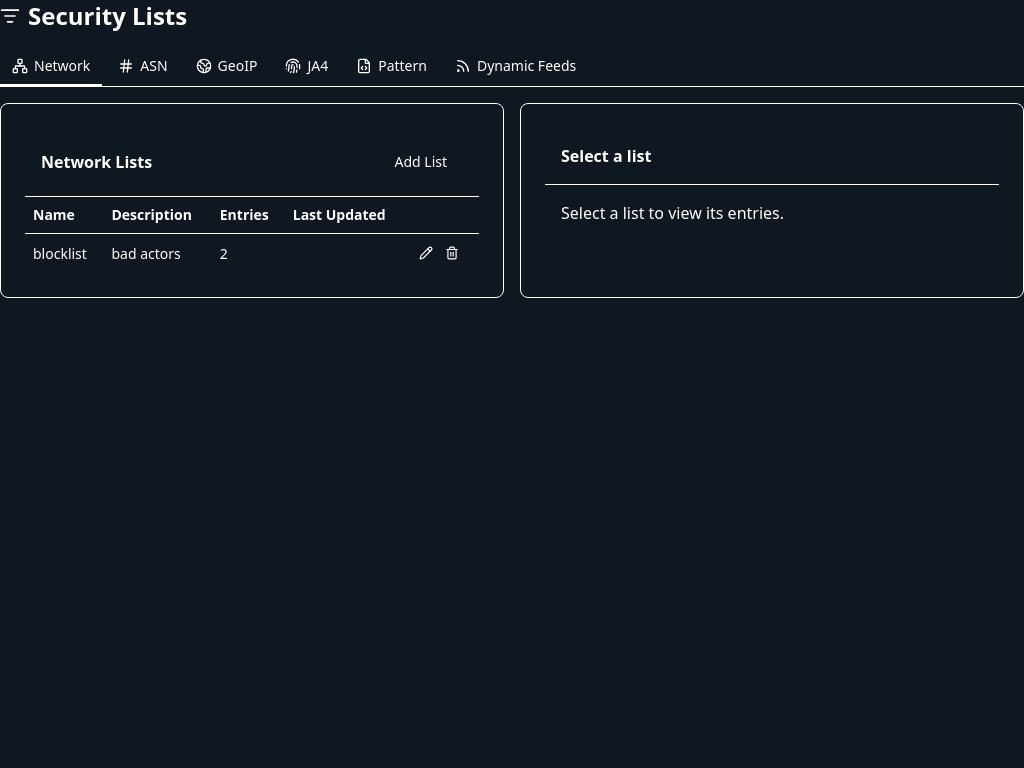
SecurityLists page › opens the Add List modal
Expected: the text "blocklist" is shown, x1=25 y1=234 x2=103 y2=273
Click the button "Add List" at (421, 162), box x1=378 y1=144 x2=463 y2=180
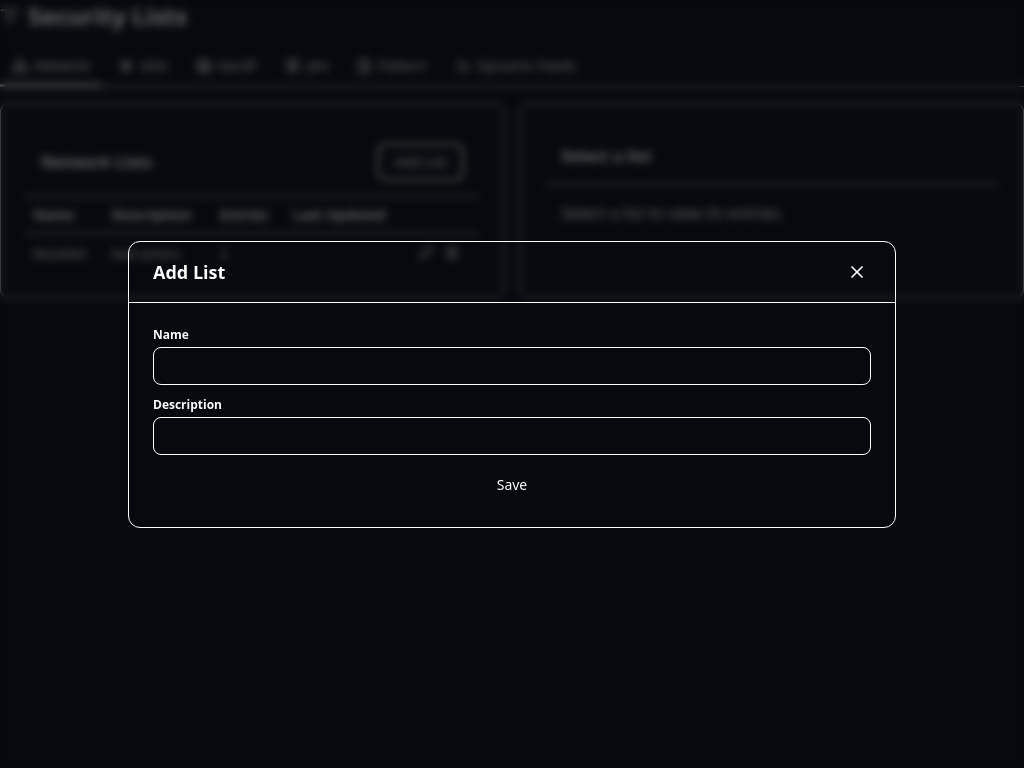
Expected: the heading "Add List" is shown, x1=153 y1=258 x2=225 y2=286
